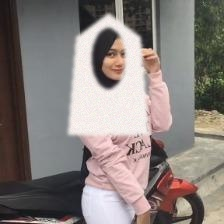Mukena: (68, 13, 148, 134)
